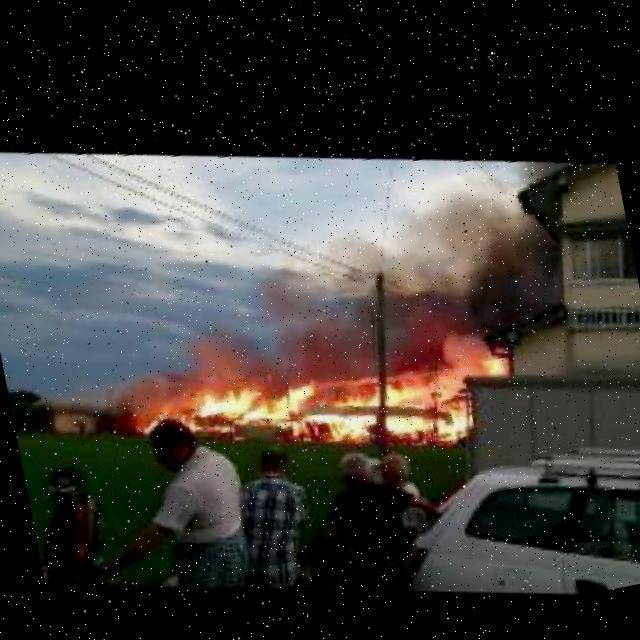fire: (168, 325, 475, 489), (127, 395, 170, 433), (473, 344, 504, 376)
